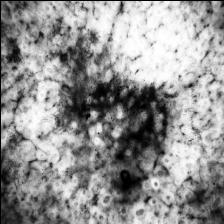Potentially Malignant Skin Tumors: (94, 68, 168, 197), (42, 28, 112, 109)
